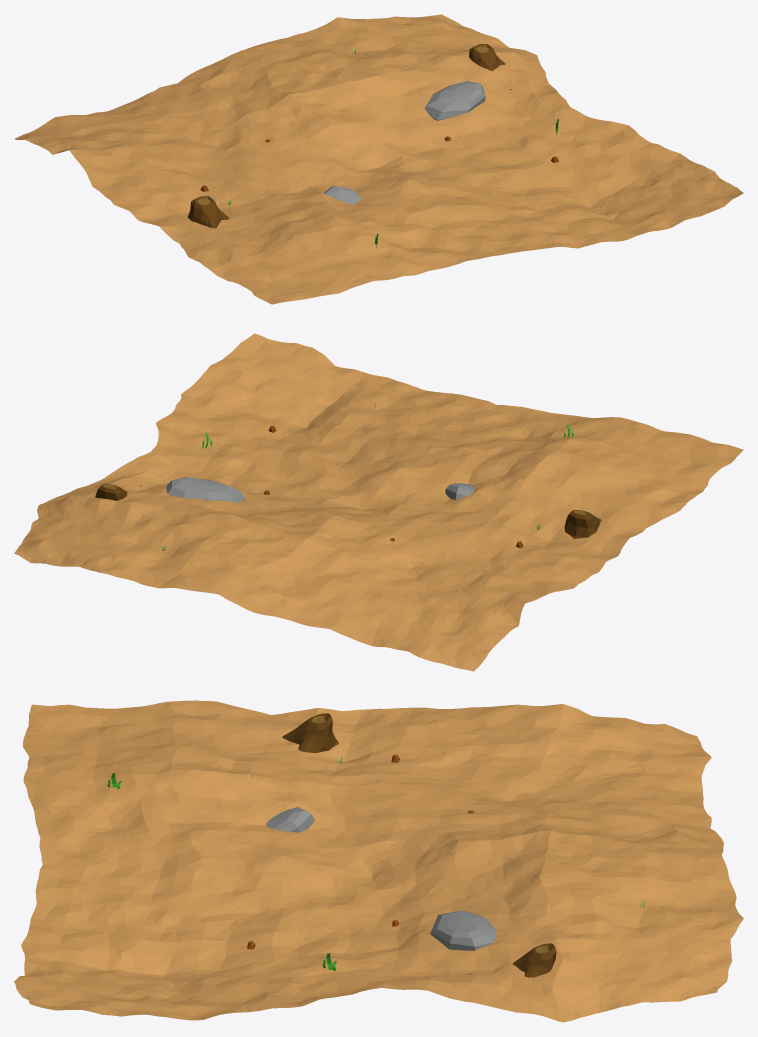
The model's file is stage_3.fbx.
3 renders of one model, top to bottom at view 1: azimuth 30°, elevation 25°; view 2: azimuth 150°, elevation 25°; view 3: azimuth 270°, elevation 25°, orthographic. The views are drawn at different scales.
Parts seen in each view (by area): view 1: Environment_3; view 2: Environment_3; view 3: Environment_3.
Boxes of the visible parts, x1,y1,x2,y2 form: Environment_3: [14, 14, 743, 304]; Environment_3: [14, 333, 743, 671]; Environment_3: [14, 700, 743, 1022].
Bounding box in the file's own units: 2142 × 233 × 2155.
